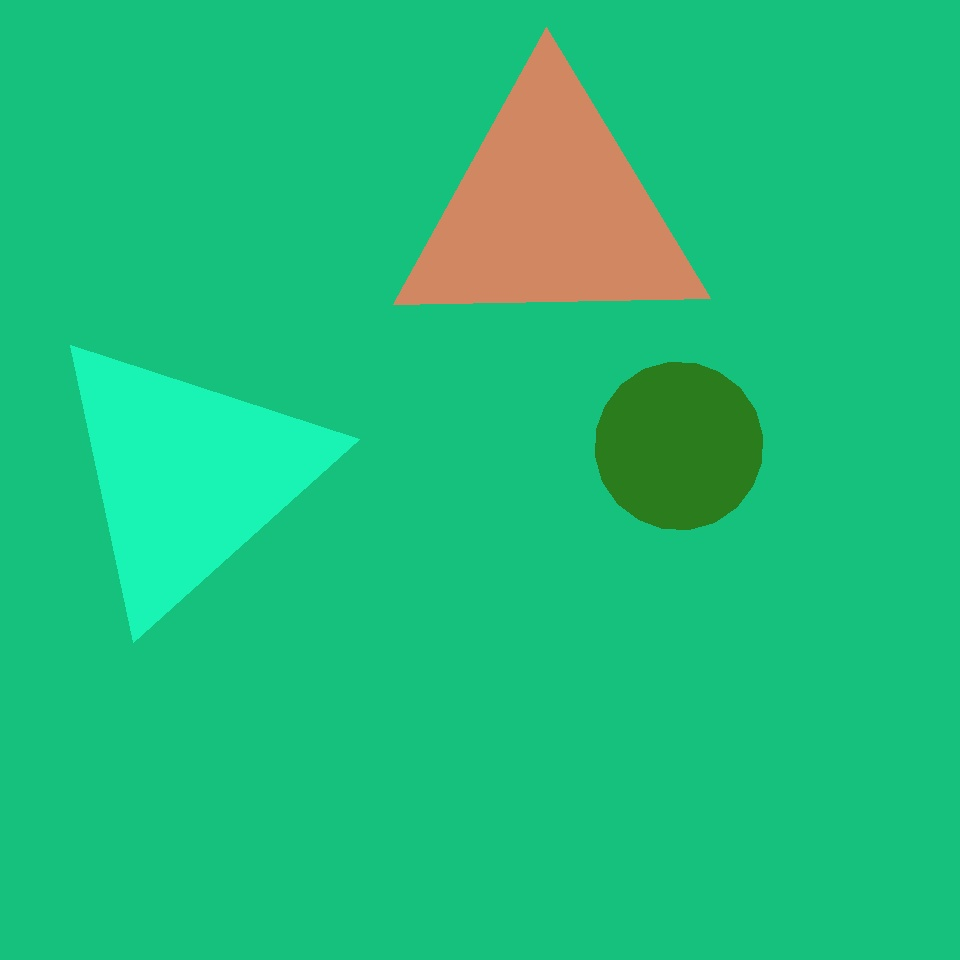circle: (391, 72, 708, 348), (44, 328, 332, 624)
triangle: (596, 362, 762, 530)
